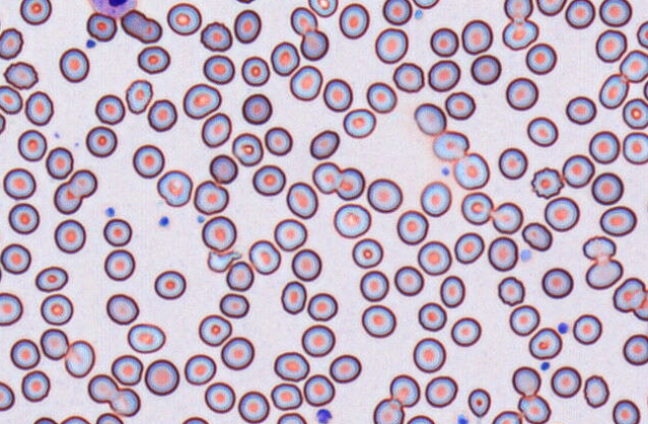GRAN: (87, 0, 138, 20)
PLT: (316, 408, 335, 424), (104, 205, 118, 219), (84, 35, 97, 50), (520, 249, 534, 262), (158, 214, 171, 227), (558, 321, 570, 335), (457, 413, 469, 424), (541, 360, 552, 372), (441, 165, 451, 176), (196, 214, 206, 224)
RBC: (120, 8, 162, 43), (182, 83, 221, 119), (156, 169, 192, 207), (453, 152, 489, 189), (333, 203, 371, 238), (366, 177, 402, 213), (144, 358, 179, 395), (193, 179, 229, 214), (201, 215, 236, 251), (544, 196, 579, 231), (374, 27, 408, 63), (289, 64, 322, 101), (585, 257, 623, 289), (64, 339, 95, 378), (612, 277, 646, 312), (361, 304, 396, 338), (417, 240, 451, 275), (286, 181, 318, 218), (127, 322, 165, 353), (599, 205, 637, 236), (220, 336, 254, 370), (412, 337, 445, 372), (248, 239, 281, 274), (166, 2, 201, 35), (502, 18, 538, 50), (432, 130, 469, 161), (338, 2, 369, 39), (301, 324, 335, 357), (273, 218, 307, 251), (591, 171, 624, 205), (505, 76, 538, 110), (54, 218, 86, 253), (396, 209, 428, 244), (461, 19, 493, 54), (598, 73, 629, 109), (420, 180, 451, 216), (460, 191, 493, 224), (413, 102, 446, 135), (198, 314, 232, 346), (528, 327, 562, 359), (2, 167, 36, 199), (562, 154, 594, 188), (132, 144, 164, 178), (588, 130, 620, 164), (231, 132, 263, 166), (487, 236, 518, 271), (58, 47, 89, 82), (273, 351, 309, 381), (530, 166, 563, 198), (303, 373, 335, 406), (424, 375, 457, 407), (491, 201, 523, 234), (103, 248, 135, 281), (40, 293, 73, 325), (252, 164, 285, 196), (595, 29, 627, 62), (427, 59, 460, 91), (342, 107, 376, 138), (201, 112, 231, 147), (184, 353, 216, 385), (85, 125, 117, 157), (389, 374, 420, 407), (110, 354, 143, 385), (550, 365, 581, 398), (238, 390, 269, 423), (106, 293, 139, 324), (335, 166, 365, 200), (147, 98, 177, 132), (3, 60, 38, 89), (24, 90, 53, 125), (270, 41, 299, 76), (125, 78, 153, 114), (0, 242, 31, 274), (204, 381, 235, 413), (8, 202, 39, 234), (541, 267, 573, 298), (351, 237, 383, 268), (525, 42, 556, 74), (366, 81, 397, 113), (311, 161, 341, 194), (291, 248, 321, 281), (153, 269, 186, 299), (202, 54, 235, 84), (454, 231, 484, 264), (86, 11, 117, 42), (9, 338, 40, 369), (241, 93, 272, 124), (94, 93, 125, 124), (87, 373, 119, 403), (511, 365, 541, 397), (39, 328, 69, 360), (329, 353, 361, 383), (509, 304, 539, 336), (17, 129, 47, 161), (572, 313, 602, 345), (359, 269, 389, 301), (200, 21, 232, 51), (392, 62, 424, 92), (526, 116, 558, 146), (53, 181, 82, 214), (517, 394, 550, 423), (21, 369, 50, 402), (137, 45, 170, 74), (323, 78, 352, 111), (233, 9, 261, 43), (521, 221, 552, 251), (394, 265, 424, 296), (450, 316, 481, 346), (470, 54, 501, 84), (498, 147, 527, 179), (45, 146, 73, 179), (619, 49, 647, 82), (67, 168, 97, 198), (309, 129, 339, 159), (109, 387, 140, 416), (225, 260, 254, 291), (209, 153, 238, 184), (564, 0, 595, 29), (444, 91, 475, 120), (565, 95, 596, 124), (241, 55, 270, 86), (270, 382, 302, 410), (35, 265, 68, 292), (599, 0, 632, 27), (583, 374, 609, 408), (280, 280, 306, 314), (417, 301, 446, 331), (307, 292, 337, 321), (429, 27, 458, 57), (300, 29, 328, 60), (582, 235, 616, 260), (103, 217, 132, 246), (439, 275, 465, 307), (622, 131, 647, 164), (497, 276, 525, 305), (289, 6, 317, 35), (264, 126, 292, 155), (373, 397, 404, 423), (622, 333, 647, 365), (622, 97, 647, 129), (19, 0, 51, 25), (0, 291, 23, 325), (219, 292, 249, 318), (382, 0, 412, 25), (0, 27, 23, 59), (467, 387, 490, 417), (612, 399, 640, 423), (0, 84, 22, 114), (503, 0, 533, 21), (308, 0, 338, 17), (536, 0, 566, 16), (0, 381, 15, 411), (633, 291, 647, 321), (491, 410, 522, 423), (276, 412, 307, 423), (95, 412, 123, 423), (636, 20, 647, 48), (406, 414, 434, 423), (60, 415, 90, 423), (413, 0, 439, 9), (181, 416, 209, 423), (33, 416, 57, 423), (0, 113, 6, 134), (643, 79, 648, 101), (235, 0, 255, 4)
Schistocyte: (206, 251, 243, 272)
